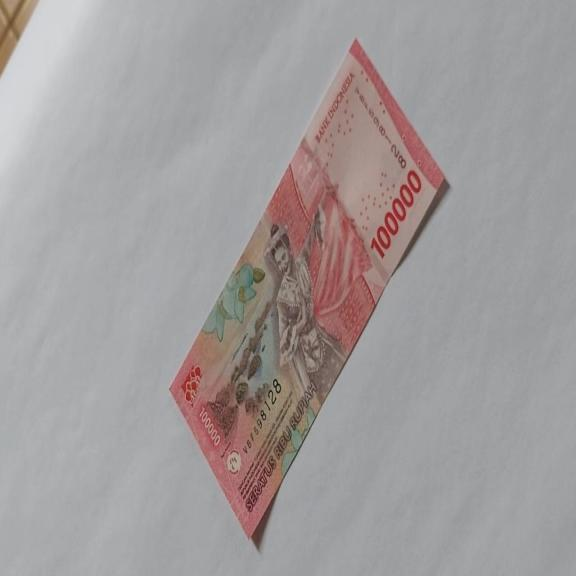Kertas: (370, 168, 422, 260)
